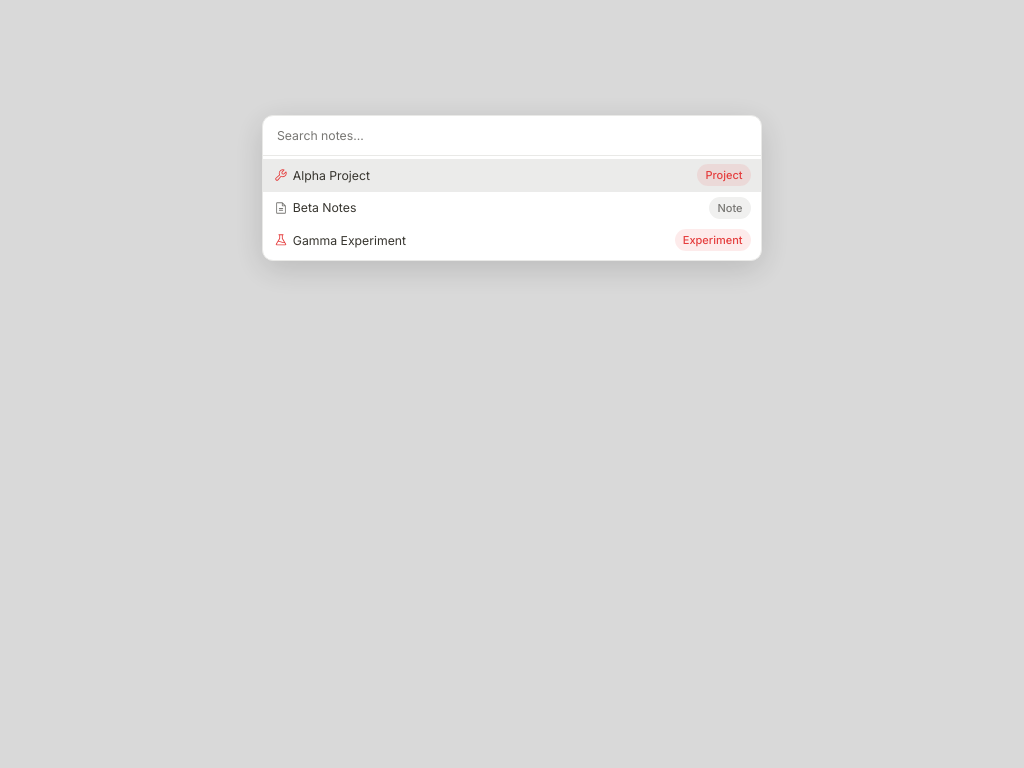
Test: QuickOpenPalette › shows "No matching notes" when query has no results
Type "zzzzzzz" into the field with placeholder "Search notes..." at (512, 136), box [263,116,761,156]
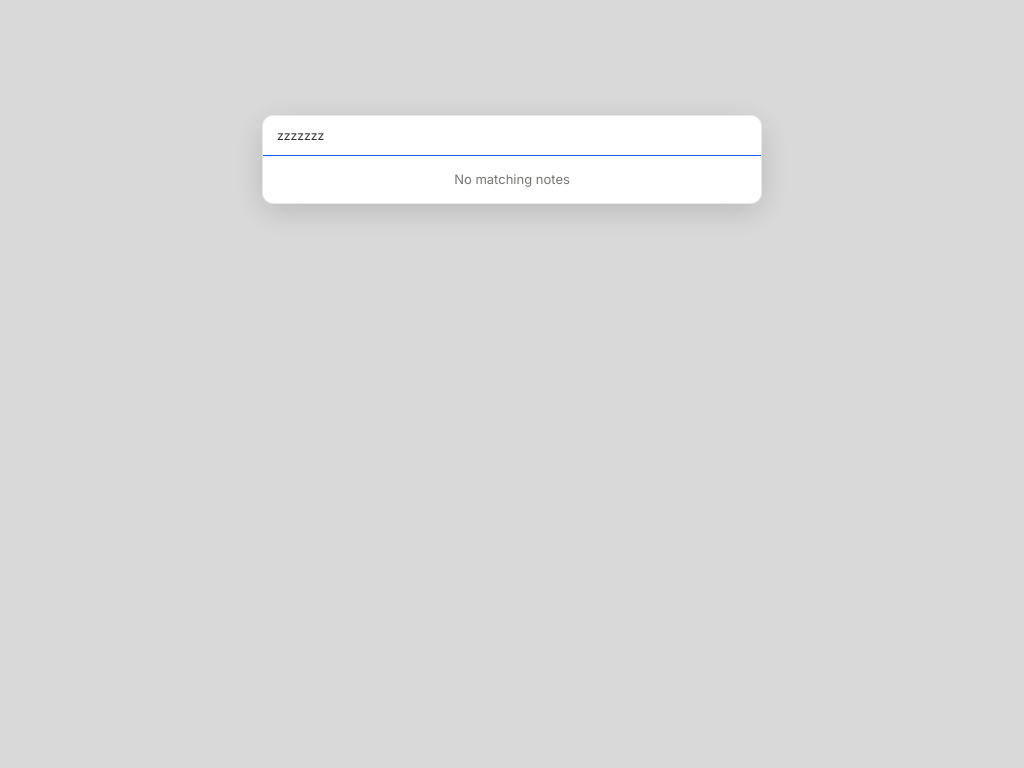
Check: the text "No matching notes" is shown, box [454,171,570,187]
